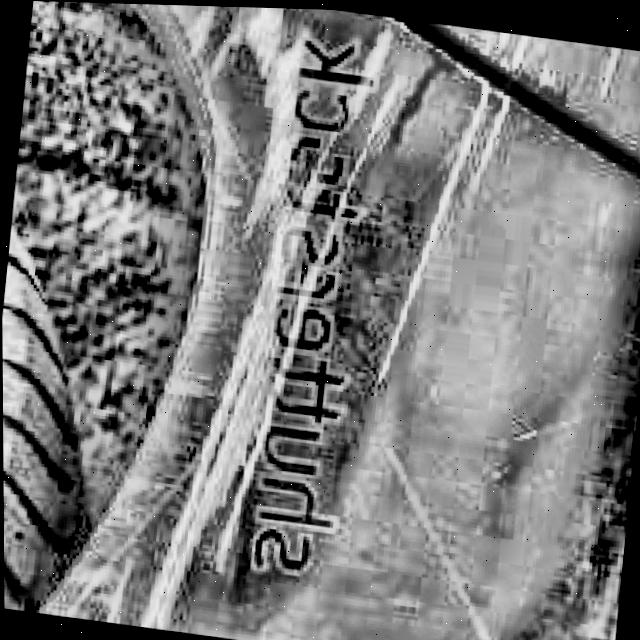door_scratch: (176, 5, 340, 640), (388, 20, 551, 387)
